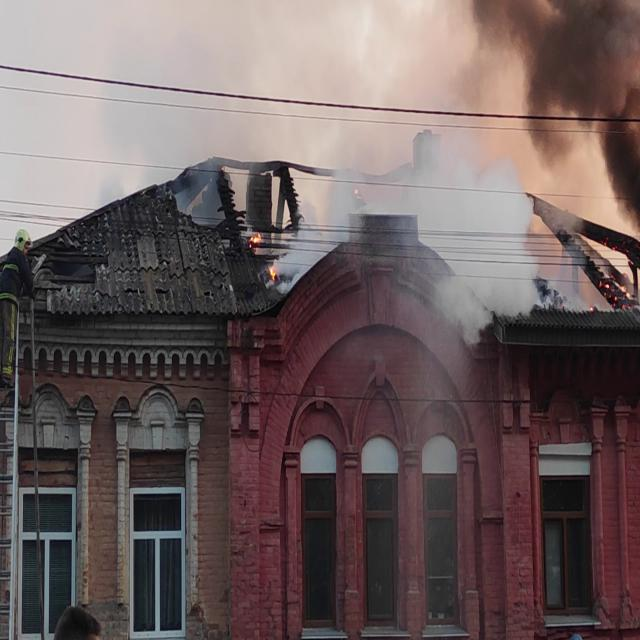smoke: (537, 3, 640, 199), (438, 168, 517, 288)
